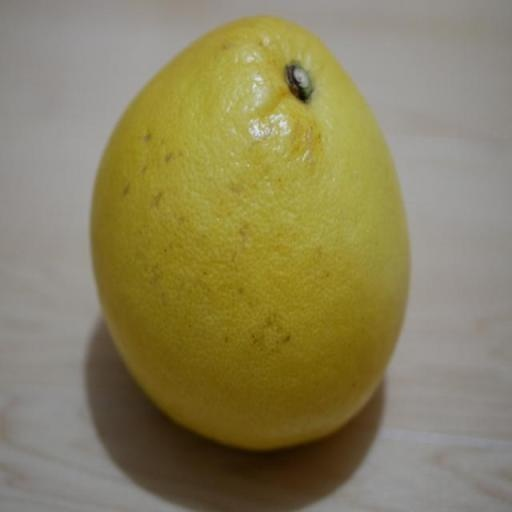fruit: (40, 107, 146, 429)
